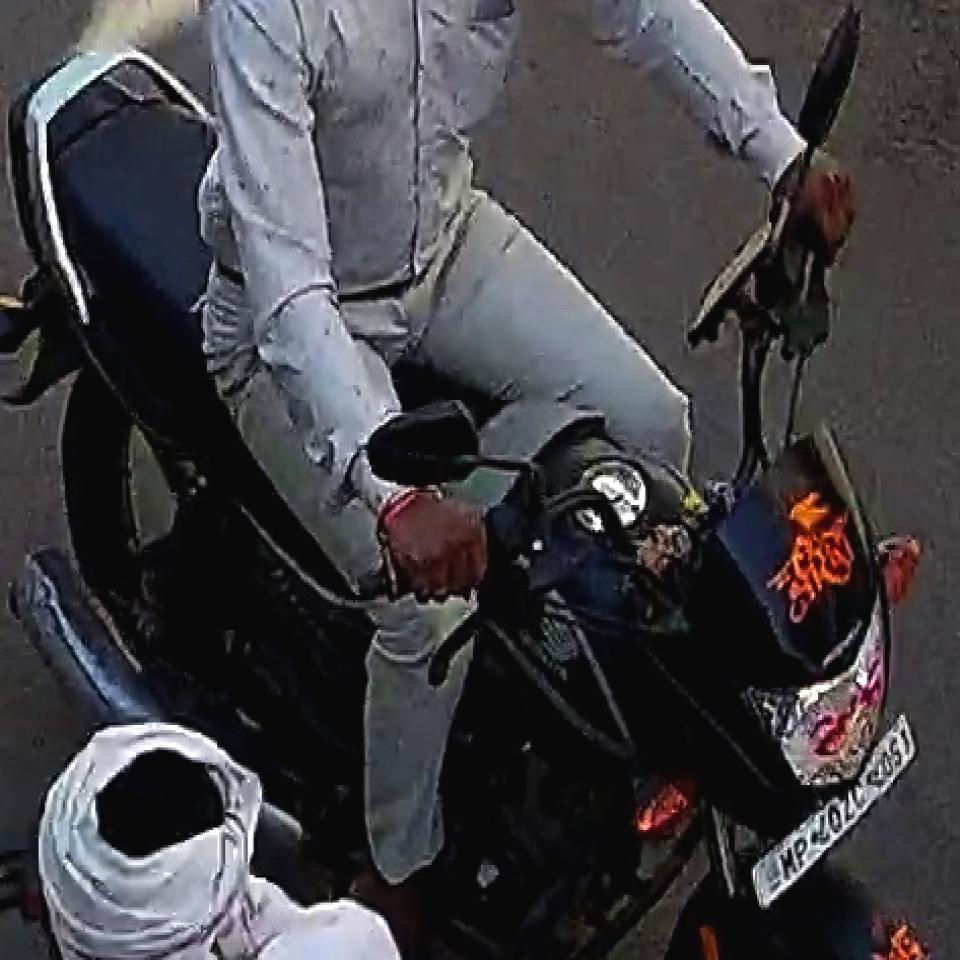head_light: (743, 611, 885, 784)
